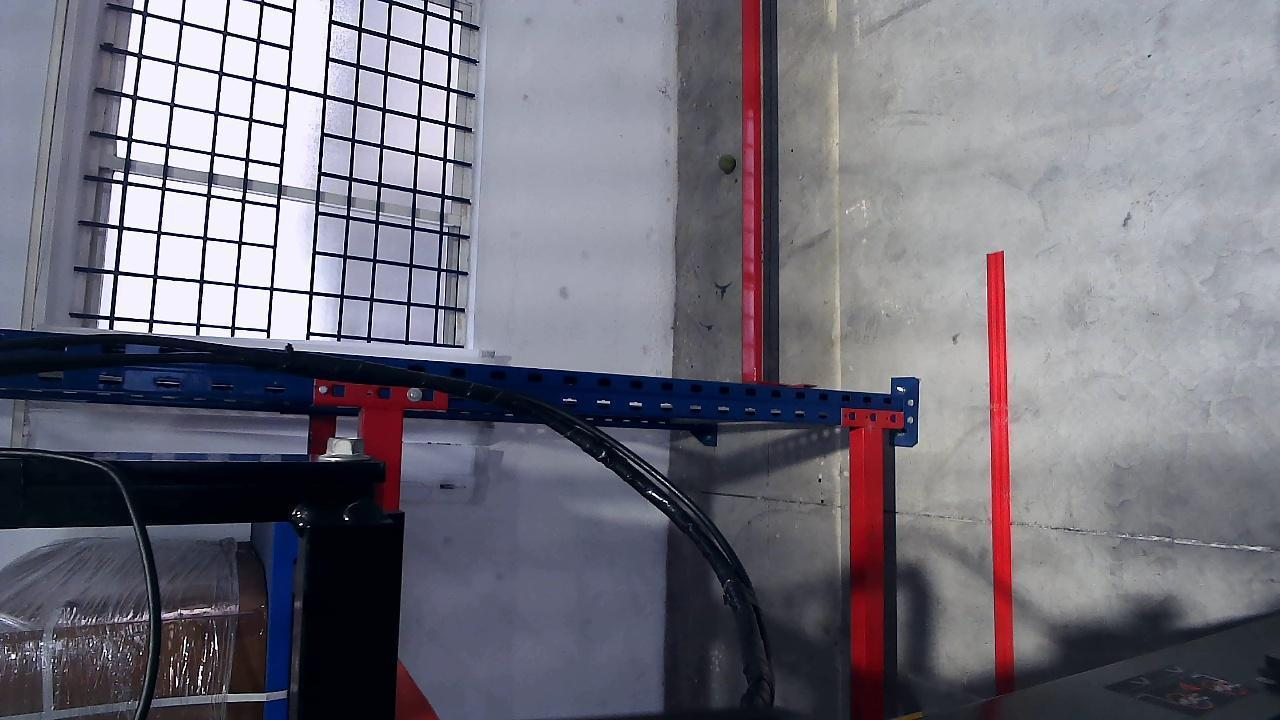red_line: (985, 250, 1017, 694)
